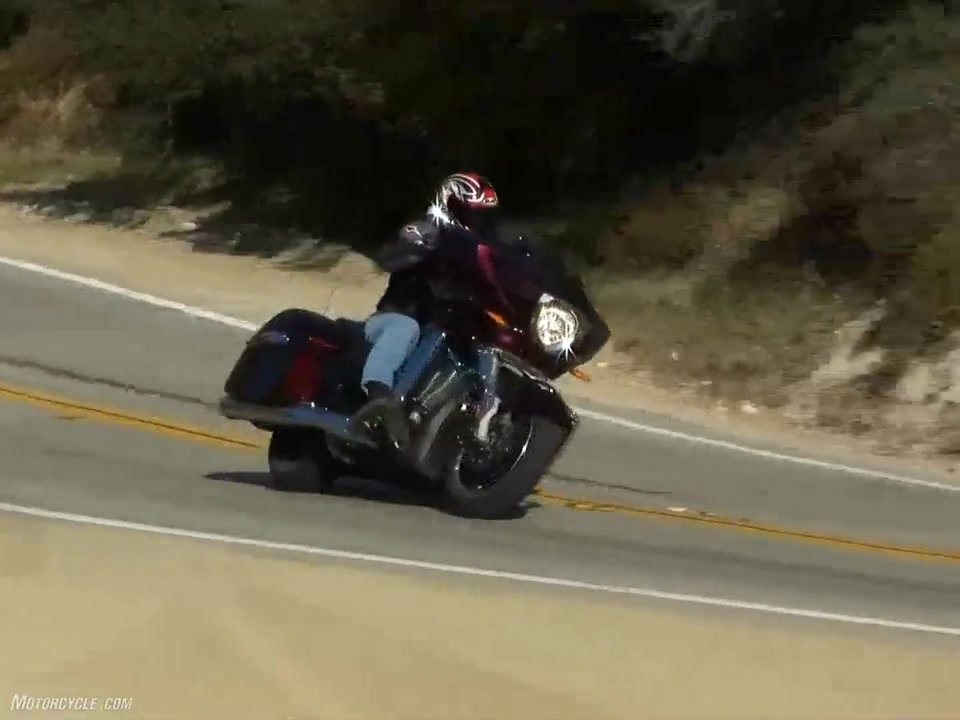motorbike: (217, 221, 615, 522)
